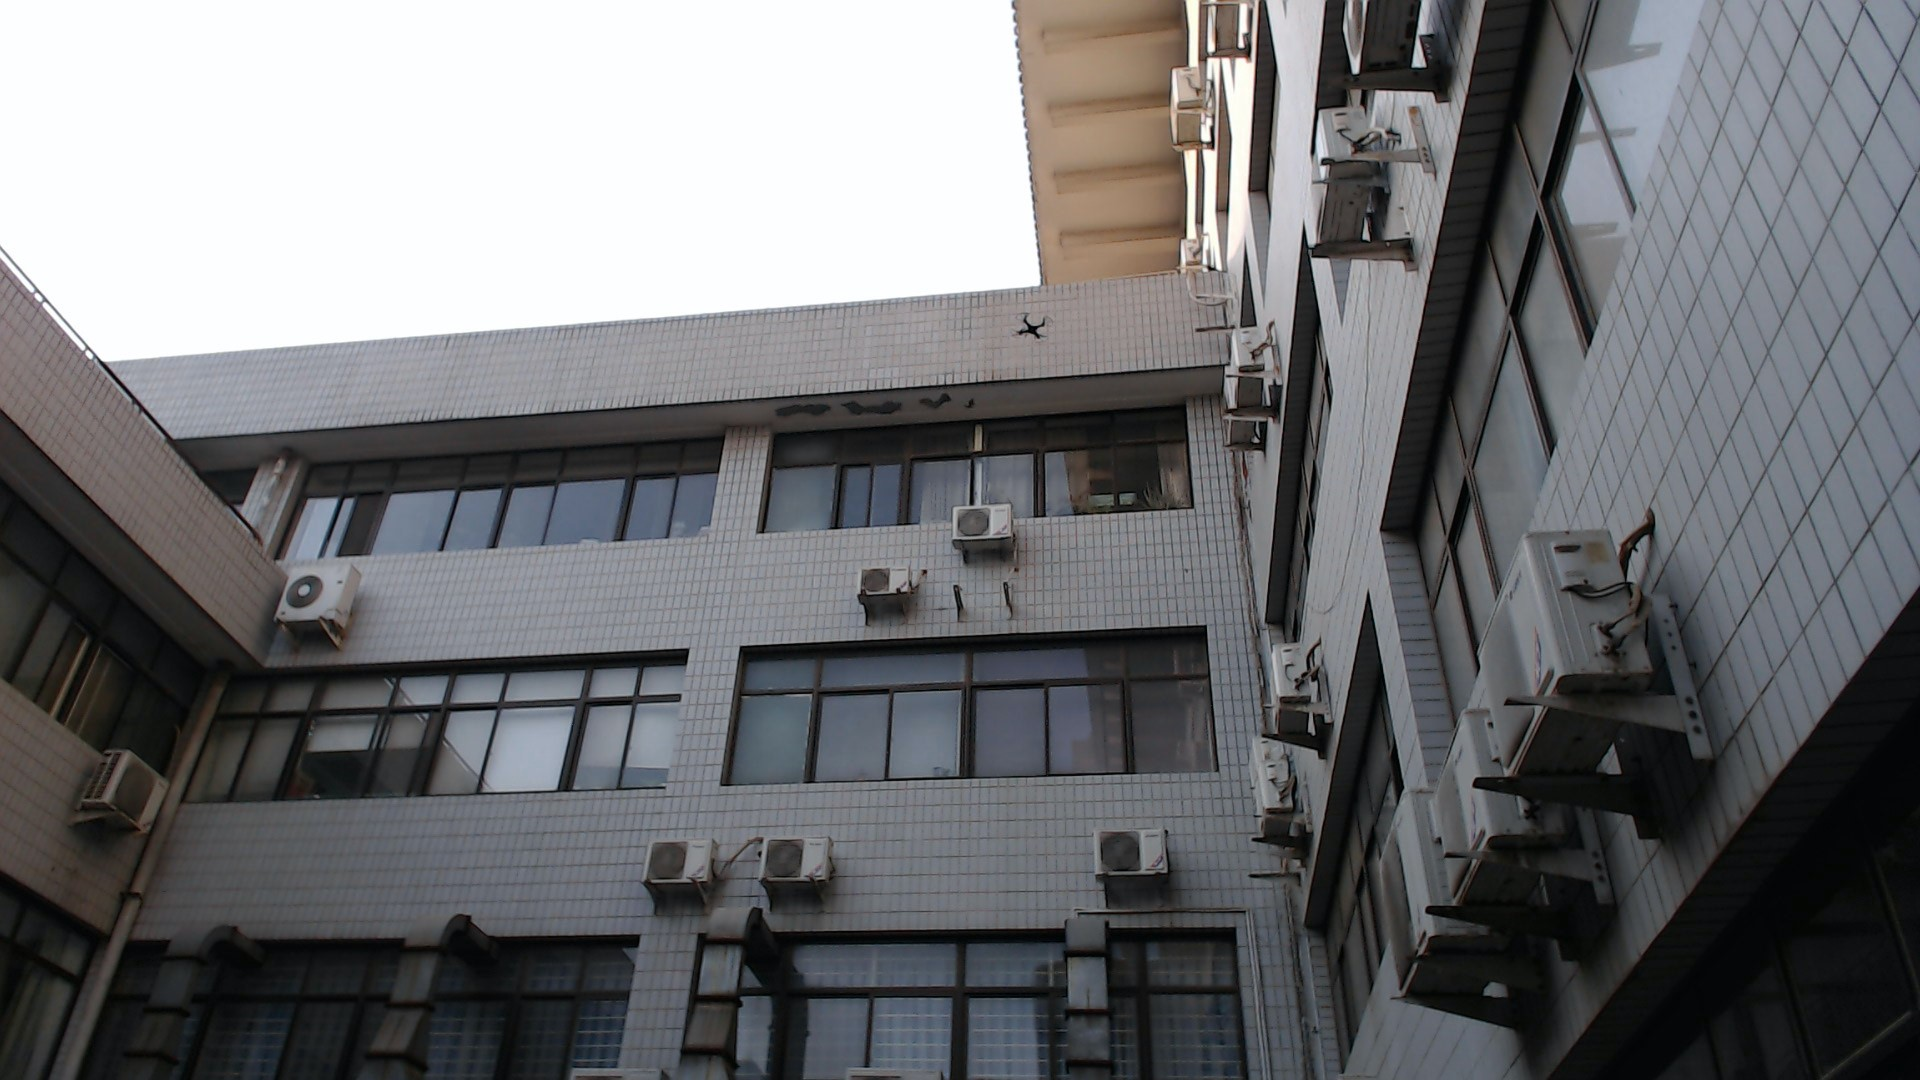drone: (993, 297, 1076, 359)
